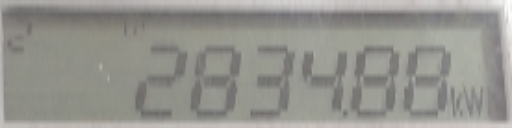2: (135, 34, 192, 128)
3: (241, 34, 298, 128)
4: (296, 34, 353, 128)
8: (189, 34, 246, 128), (352, 31, 409, 125), (400, 31, 457, 125)
d: (342, 106, 353, 120)
